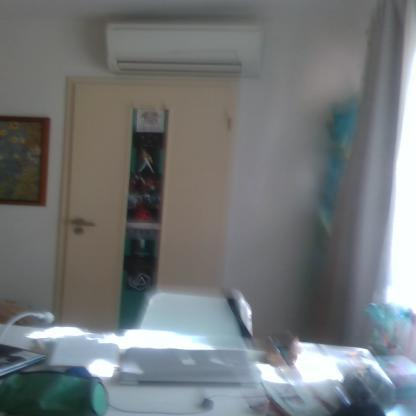door: (70, 86, 226, 338)
hinged: (227, 118, 232, 132)
lever: (68, 220, 97, 229)
